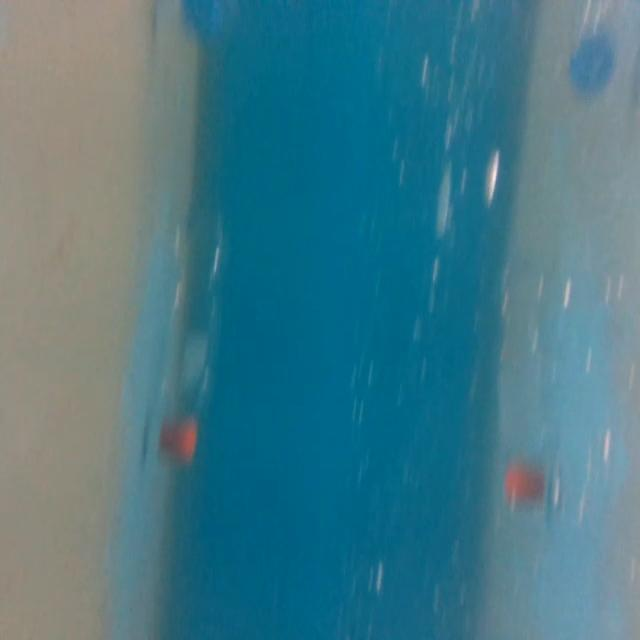plastic bottle: (149, 194, 239, 468)
